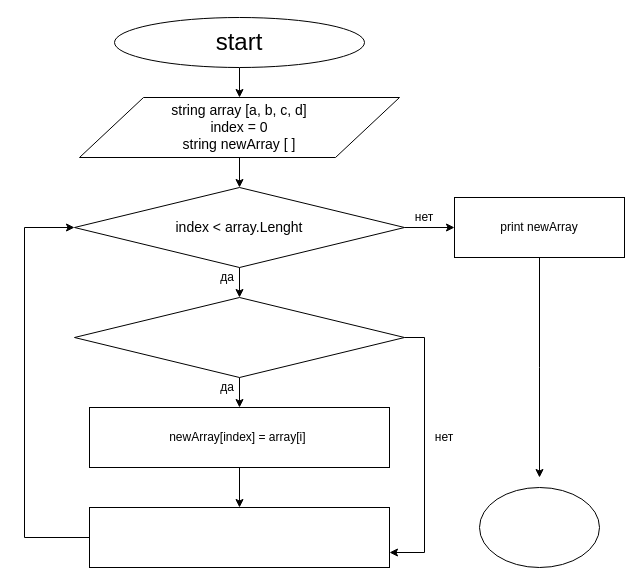
This 642x585 diagram has some shape labels left out. The centre of each missing label's shape, as x and y in pixels:
finish: (539,527)
iarray[i].lenght <= 3: (239,337)
index +1: (239,537)
